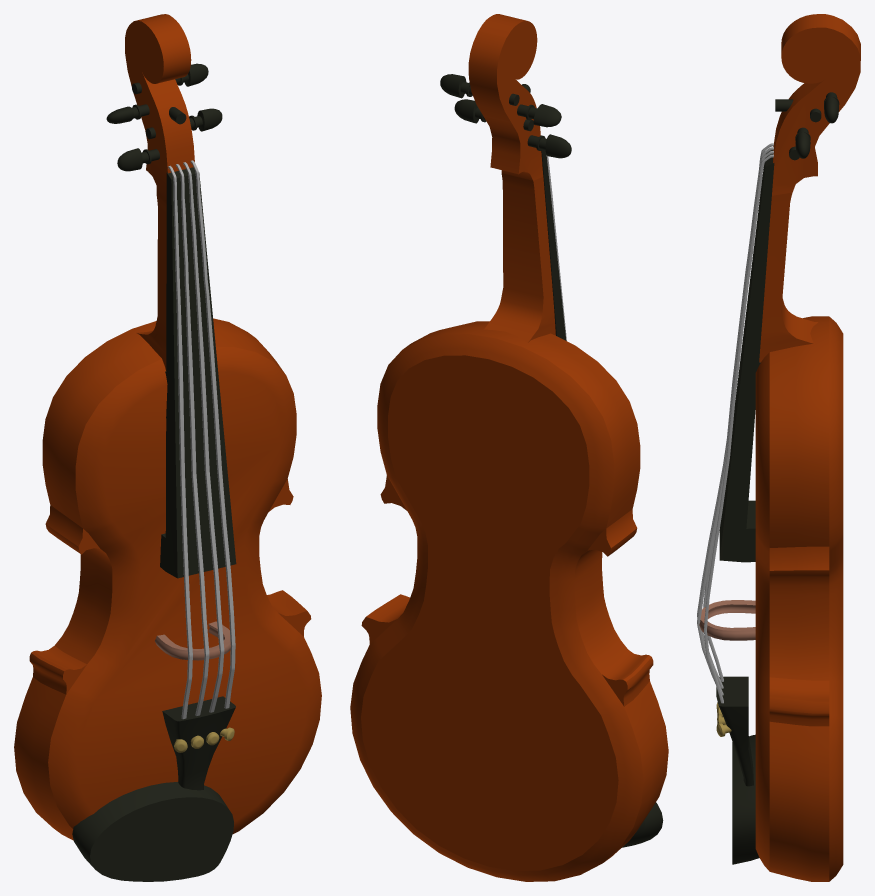
Rendered from violin.glb.
3 views of the same model, side by side, from view 1: azimuth 30°, elevation 25°; view 2: azimuth 150°, elevation 25°; view 3: azimuth 270°, elevation 25° (orthographic). The views are drawn at different scales.
Parts seen in each view (by area): view 1: Base, Palo1, Cylinder, hilos, paloTrasero, Cube, clavos, Cylinder.001, clavosBajos; view 2: Base, paloTrasero, clavos, Palo1, Cylinder; view 3: Base, paloTrasero, Palo1, hilos, Cylinder, Cube, Cylinder.001, clavos.
Boxes of the visible parts, x1=… form: Base: x1=14, y1=318, x2=321, y2=840; Palo1: x1=160, y1=167, x2=236, y2=578; Cylinder: x1=72, y1=782, x2=233, y2=881; hilos: x1=168, y1=160, x2=235, y2=719; paloTrasero: x1=125, y1=14, x2=194, y2=370; Cube: x1=162, y1=696, x2=235, y2=790; clavos: x1=106, y1=63, x2=222, y2=171; Cylinder.001: x1=155, y1=621, x2=230, y2=660; clavosBajos: x1=174, y1=727, x2=234, y2=752; Base: x1=350, y1=321, x2=668, y2=881; paloTrasero: x1=468, y1=14, x2=555, y2=342; clavos: x1=440, y1=74, x2=571, y2=158; Palo1: x1=541, y1=149, x2=566, y2=340; Cylinder: x1=622, y1=802, x2=663, y2=847; Base: x1=755, y1=316, x2=843, y2=881; paloTrasero: x1=759, y1=14, x2=860, y2=362; Palo1: x1=719, y1=150, x2=774, y2=562; hilos: x1=697, y1=143, x2=773, y2=703; Cylinder: x1=732, y1=734, x2=759, y2=864; Cube: x1=716, y1=676, x2=753, y2=786; Cylinder.001: x1=699, y1=600, x2=755, y2=640; clavos: x1=789, y1=92, x2=839, y2=160.
Bounding box in the file's own units: 169 × 471 × 83.02.
